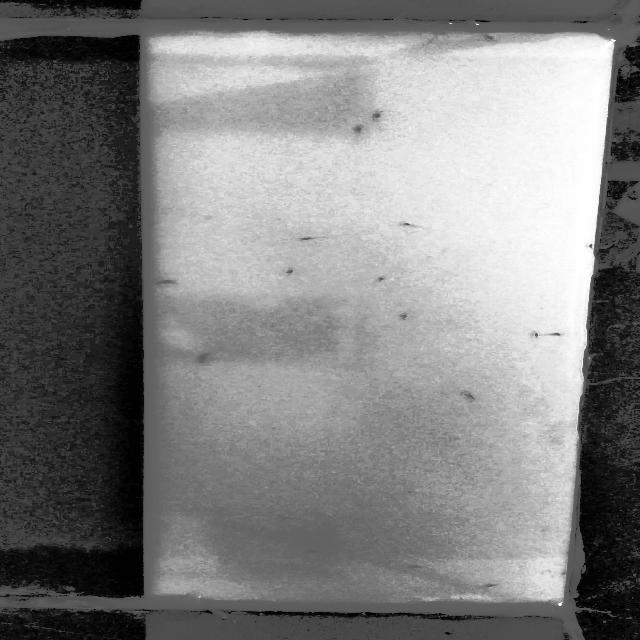shrimp: (189, 347, 213, 368), (298, 234, 340, 245), (153, 274, 185, 286), (303, 546, 340, 556), (473, 28, 499, 41), (398, 220, 430, 230), (391, 311, 414, 323), (282, 268, 307, 278), (540, 330, 563, 340), (408, 562, 433, 571), (369, 109, 386, 122), (467, 390, 482, 403), (482, 582, 506, 590), (530, 326, 541, 342), (353, 123, 366, 136), (282, 516, 308, 522), (372, 276, 391, 283)
